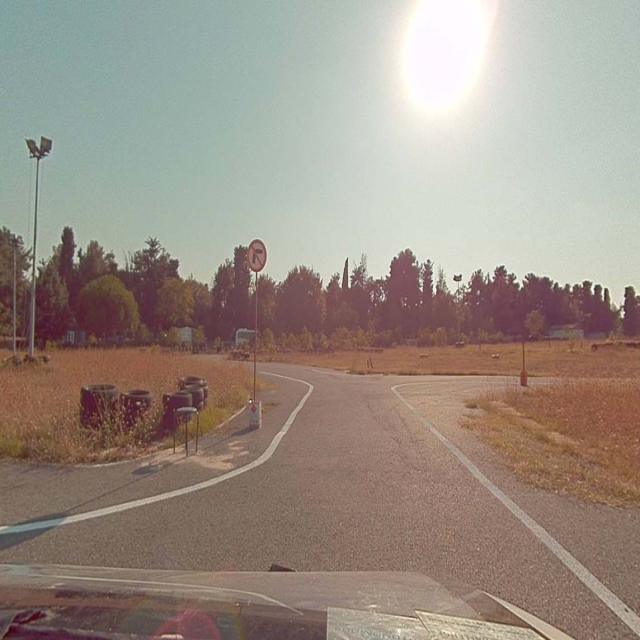sagadonulmez: (248, 239, 267, 270)
